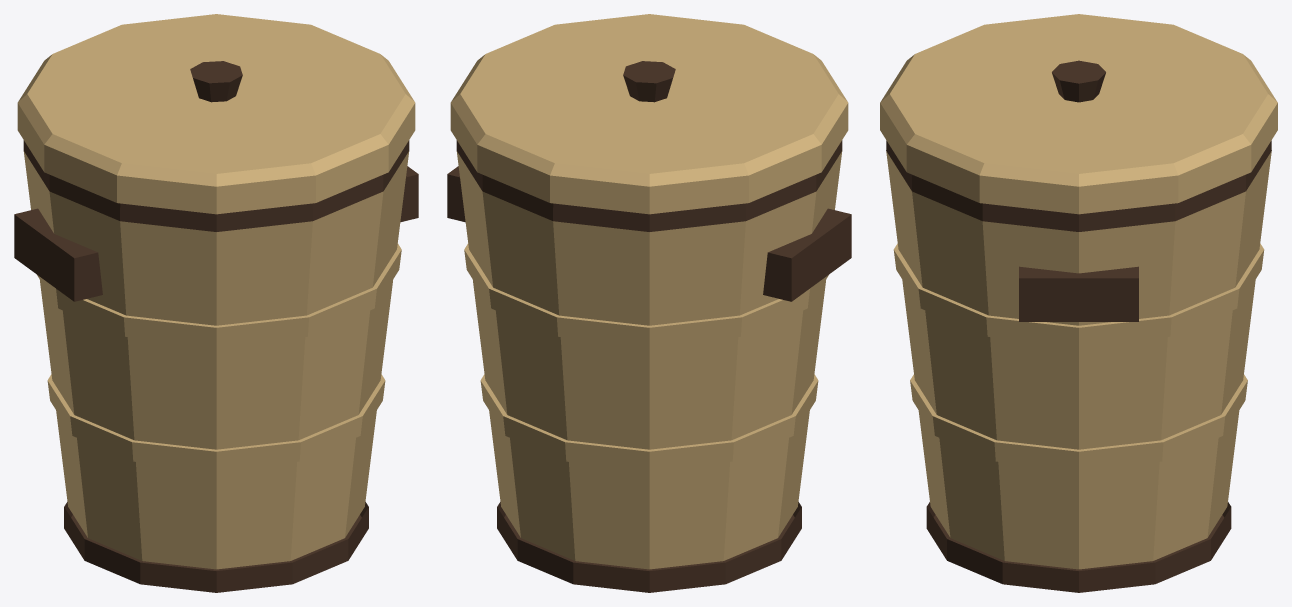
The model's file is FN_Basket_Laundry.glb.
3 views of the same model, side by side, from view 1: azimuth 30°, elevation 25°; view 2: azimuth 150°, elevation 25°; view 3: azimuth 270°, elevation 25° (orthographic).
Parts seen in each view (by area): view 1: FN_Basket_Laundry; view 2: FN_Basket_Laundry; view 3: FN_Basket_Laundry.
Boxes of the visible parts, <box> form: FN_Basket_Laundry: <box>14,14,418,592</box>; FN_Basket_Laundry: <box>447,14,851,592</box>; FN_Basket_Laundry: <box>880,14,1277,592</box>.
Size of the model in its own units: 0.496 by 0.628 by 0.496.
Materials: 1 (1 with a texture image).
